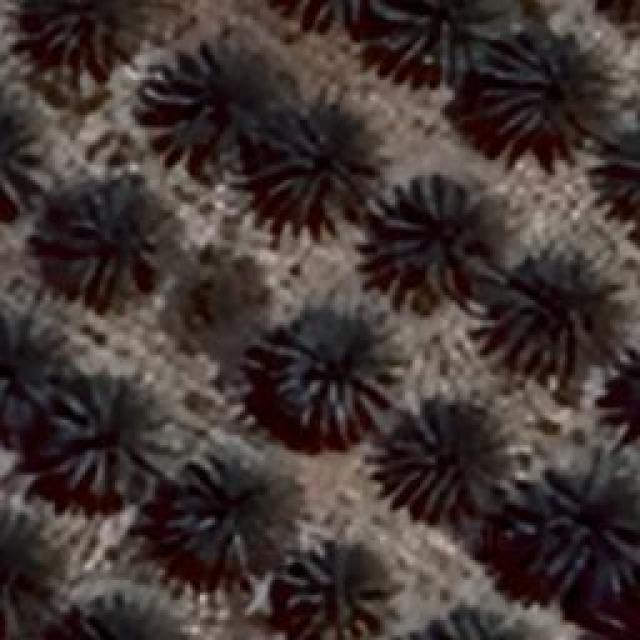PalmTree: (374, 398, 528, 512), (270, 312, 408, 438), (47, 372, 175, 498), (490, 250, 612, 380), (58, 176, 174, 309), (356, 0, 514, 91), (378, 178, 492, 300), (478, 34, 600, 138), (158, 52, 261, 162), (547, 462, 635, 590), (278, 544, 392, 638), (260, 110, 362, 208), (0, 308, 68, 452), (168, 458, 270, 548), (0, 516, 65, 636), (0, 83, 51, 227), (29, 0, 142, 62), (61, 591, 186, 640), (262, 0, 370, 46), (590, 123, 638, 220), (430, 608, 552, 638), (595, 0, 639, 39)
